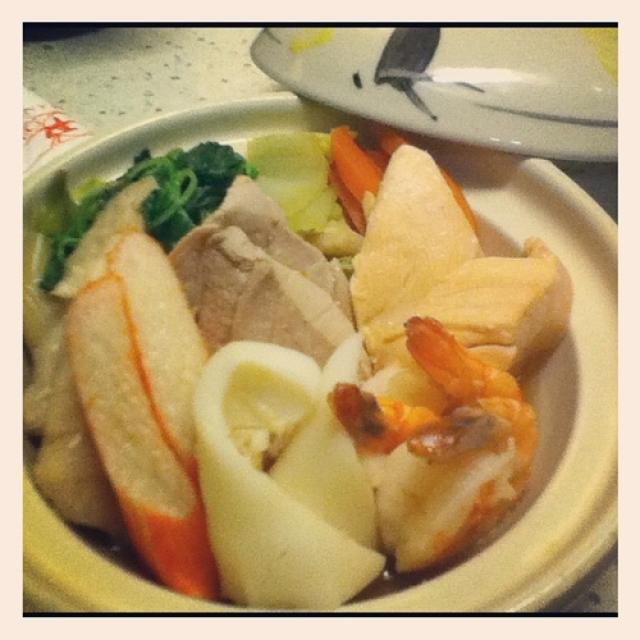汤锅炖物: (23, 82, 602, 608)
